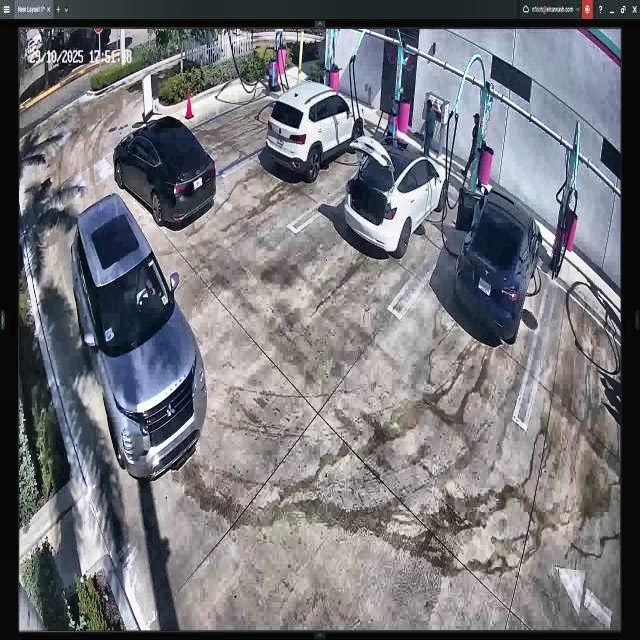Car: (68, 191, 206, 479), (453, 189, 542, 345), (349, 133, 448, 257), (112, 118, 217, 224), (272, 91, 362, 180)
